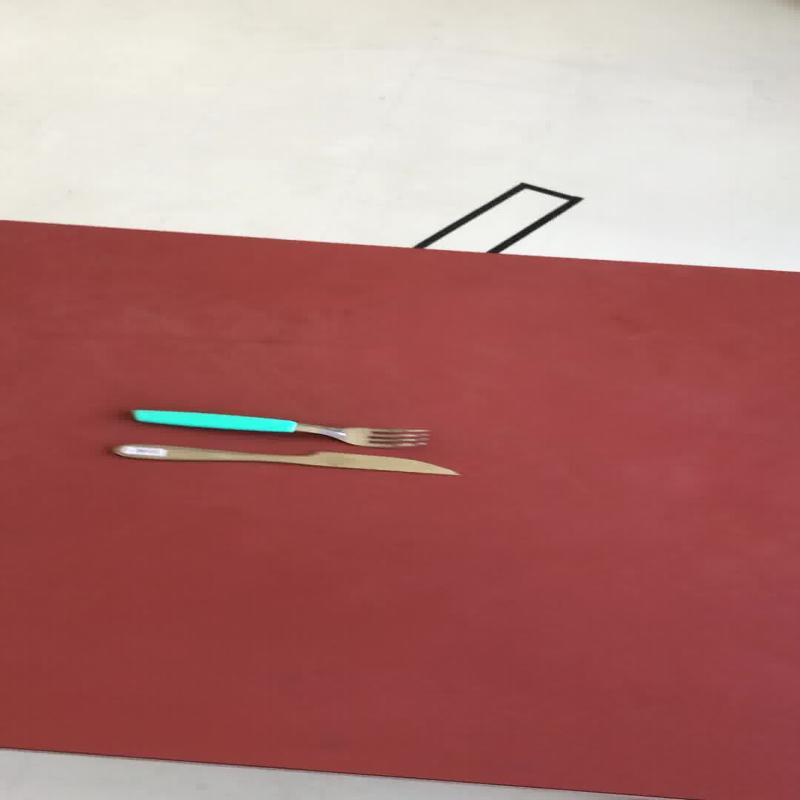fork: (128, 408, 431, 449)
knife: (109, 442, 460, 476)
